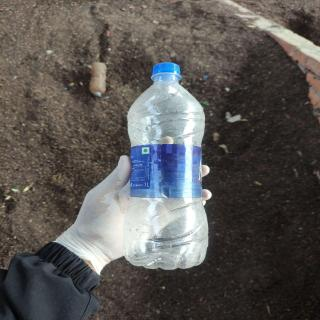Plastic-bottle: (121, 61, 212, 272)
